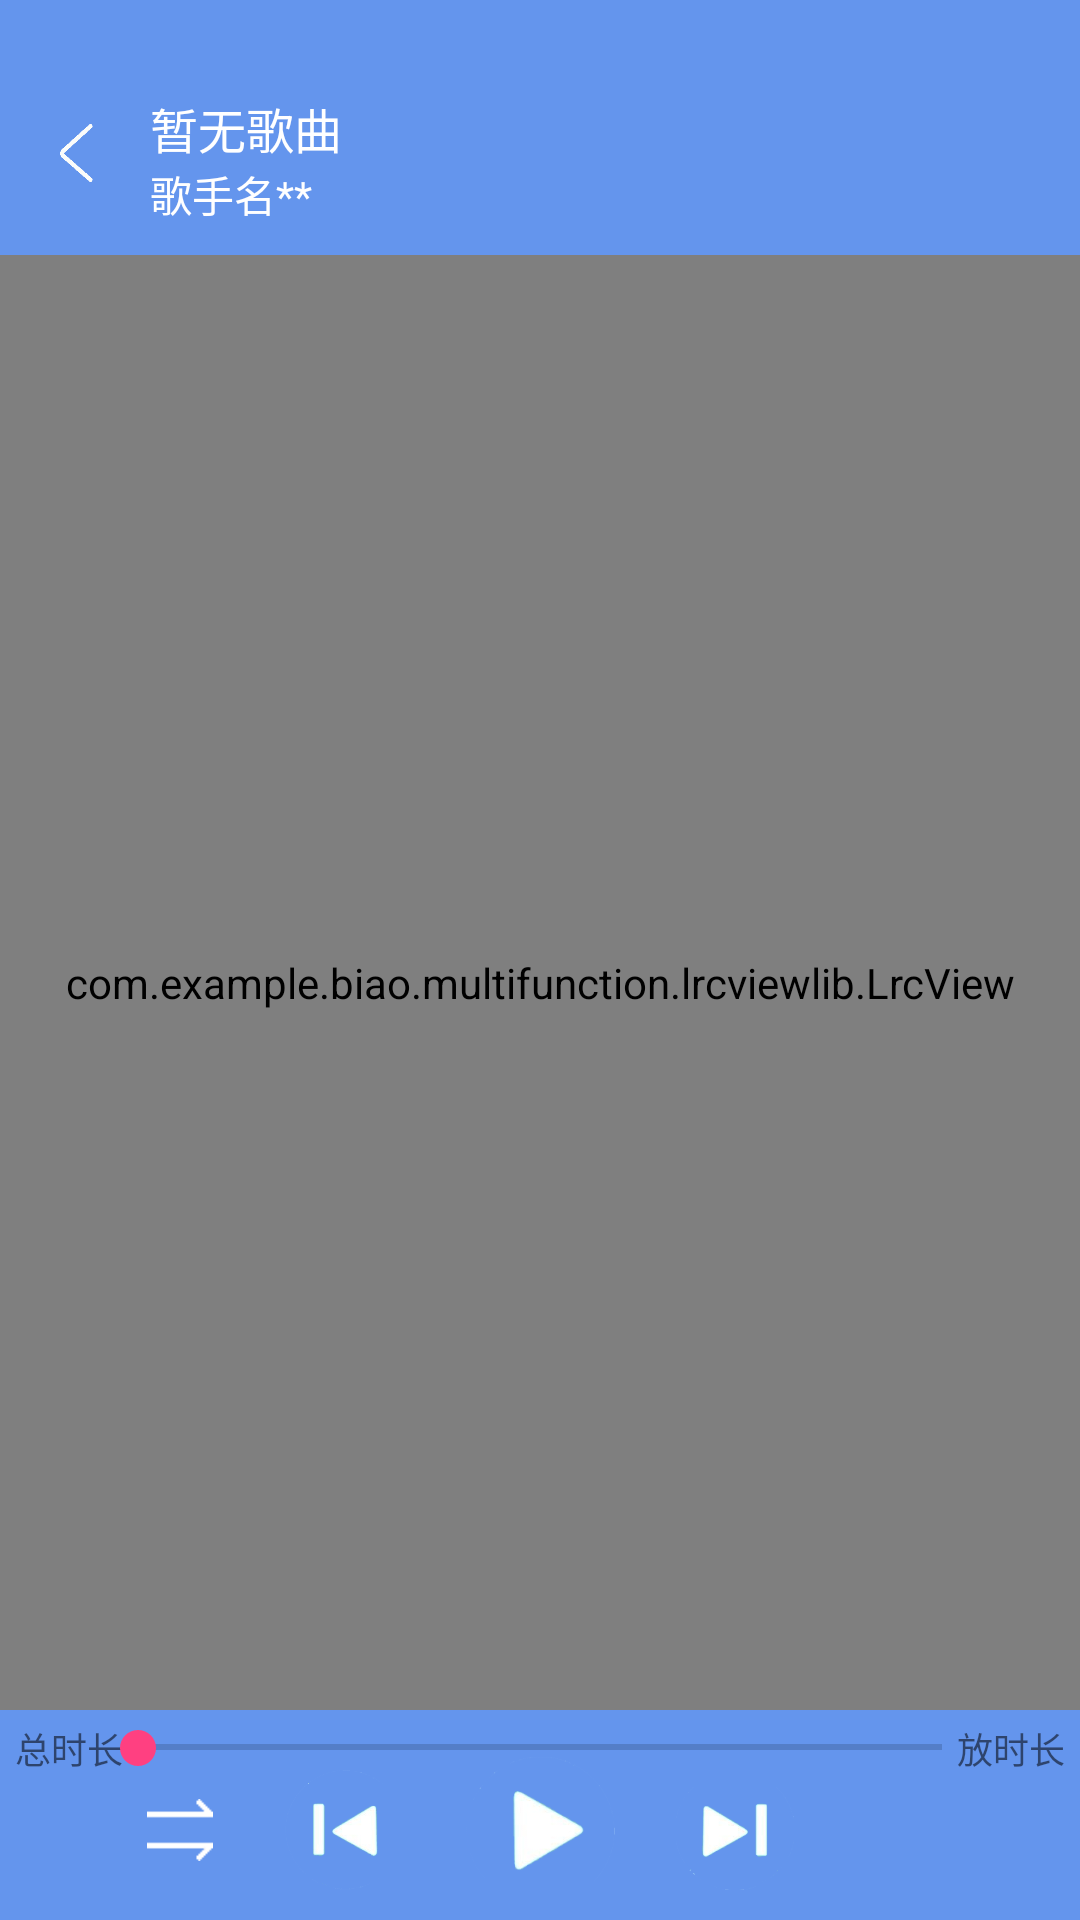

Icons on this 1080 x 1920 Android screen, each with its box as region(x1, y1, x2, y2):
last: region(308, 1783, 377, 1856)
lyrics back: region(60, 124, 93, 182)
next: region(690, 1804, 767, 1874)
start: region(513, 1791, 583, 1870)
